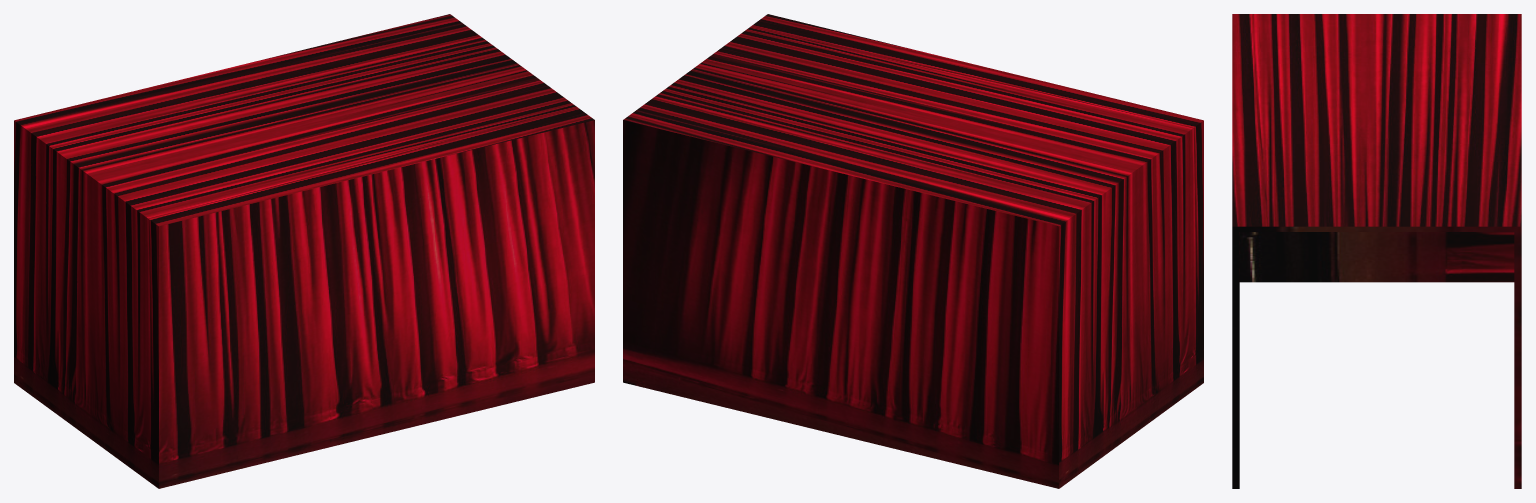
The model's file is kurtyna.fbx.
3 renders of one model, left to right at view 1: azimuth 30°, elevation 25°; view 2: azimuth 150°, elevation 25°; view 3: azimuth 270°, elevation 25°, orthographic.
Visible parts, largest first — view 1: Cube; view 2: Cube; view 3: Cube.
Boxes of the visible parts, left/top/right/bottom form: Cube: left=14, top=14, right=594, bottom=488; Cube: left=623, top=14, right=1203, bottom=488; Cube: left=1232, top=14, right=1521, bottom=488.
Size of the model in its own units: 174 by 100 by 100.
